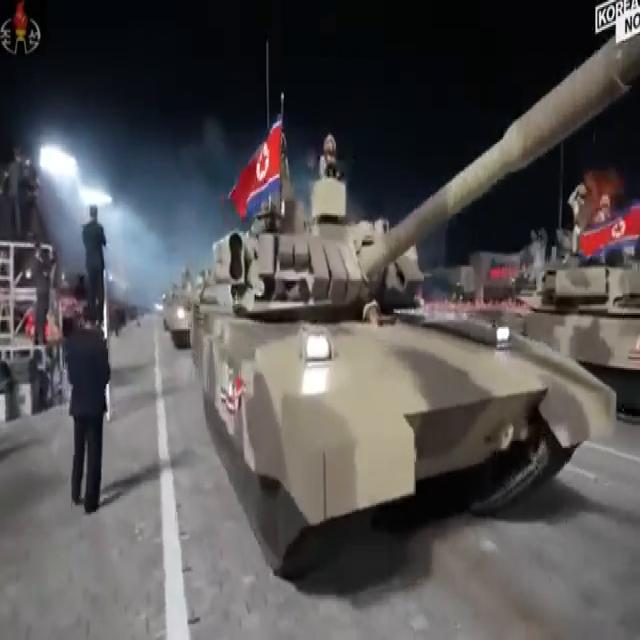north tank: (187, 24, 640, 563), (473, 213, 640, 423)
